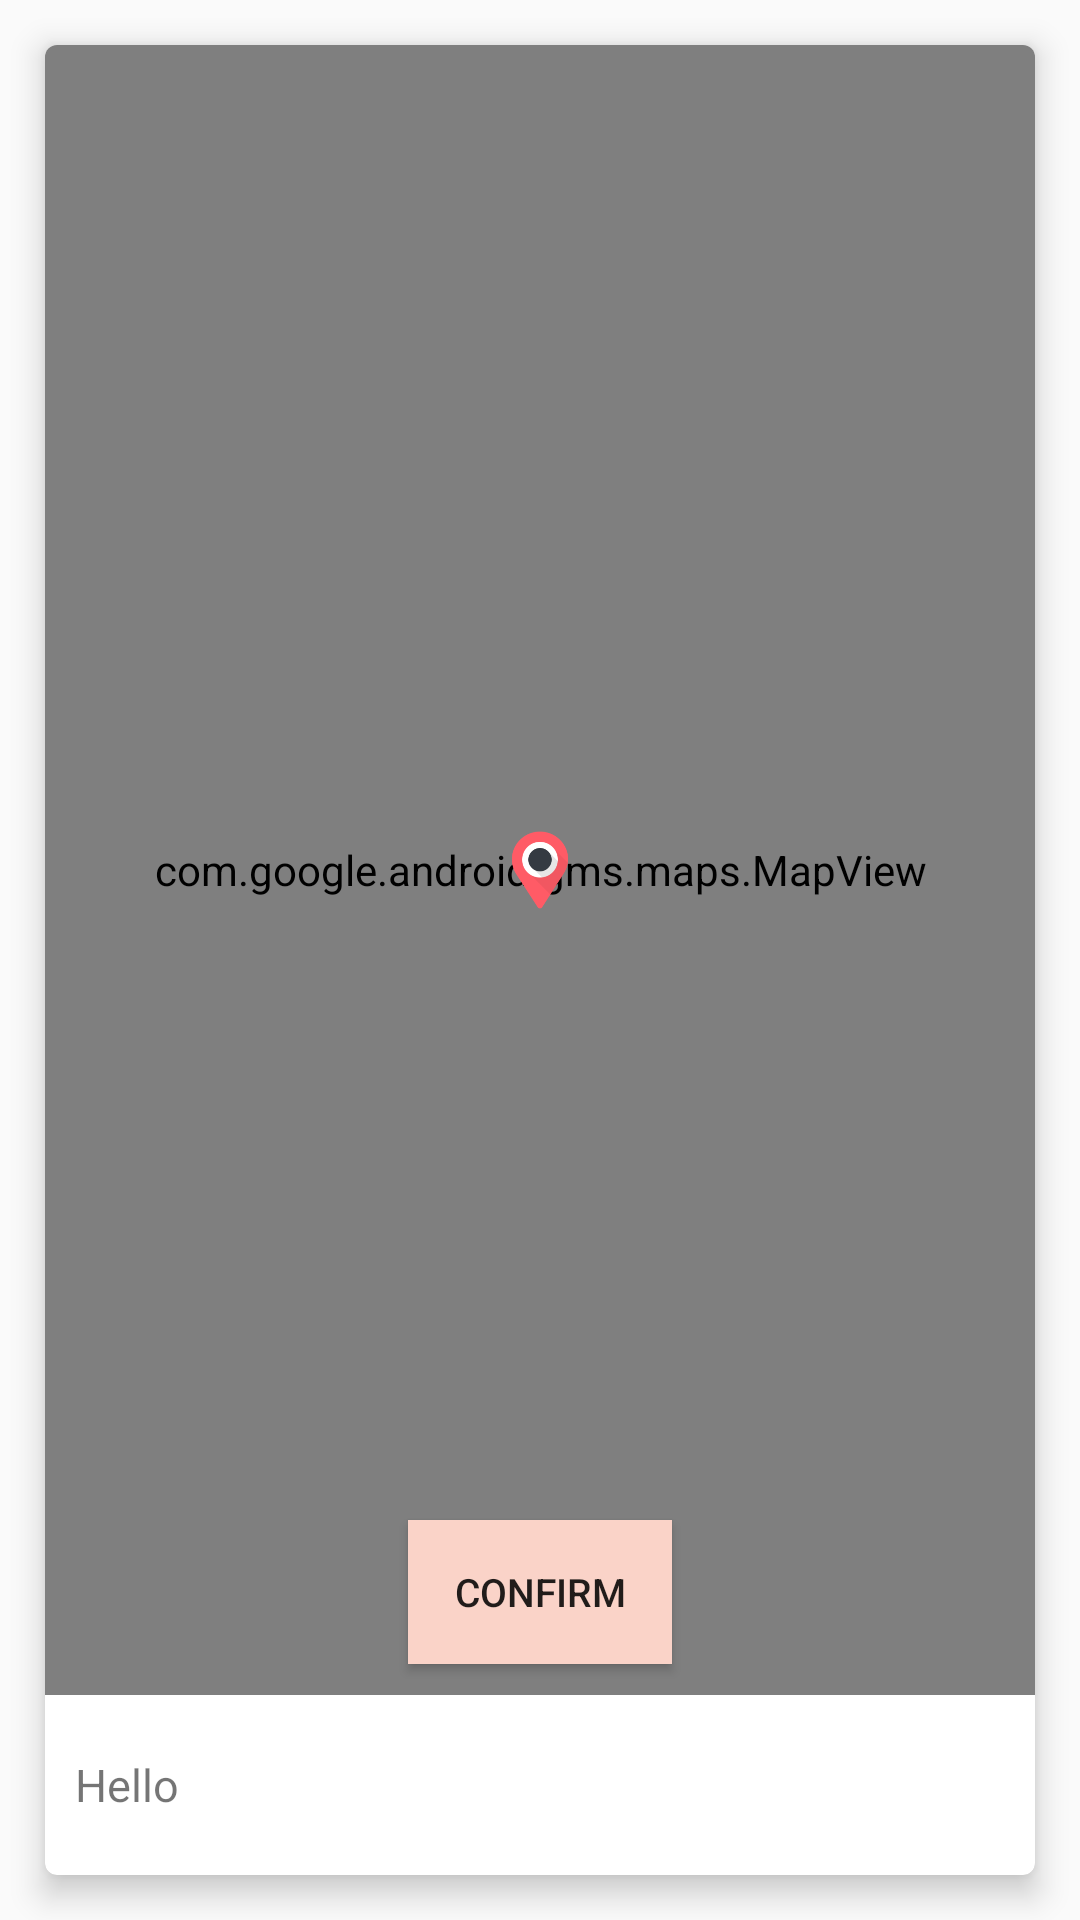

Icons on this 1080*1920 Android screen, each with its box as (x1, y1, x2, y2):
pinlocation: (499, 831, 585, 909)
